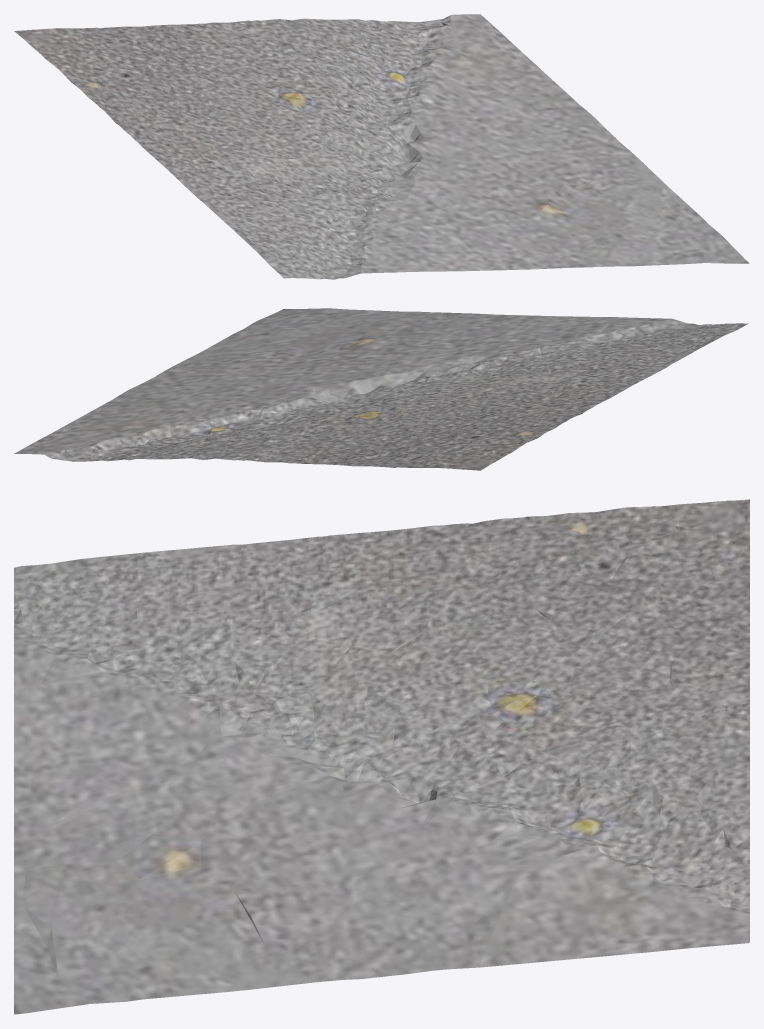
The picture shows the model from 3 angles, top to bottom: view 1: azimuth 30°, elevation 25°; view 2: azimuth 150°, elevation 25°; view 3: azimuth 270°, elevation 25°; orthographic projection. The views are drawn at different scales.
Bounding box in the file's own units: 1.67 × 0.5122 × 1.67.
3 materials, 3 textured.
